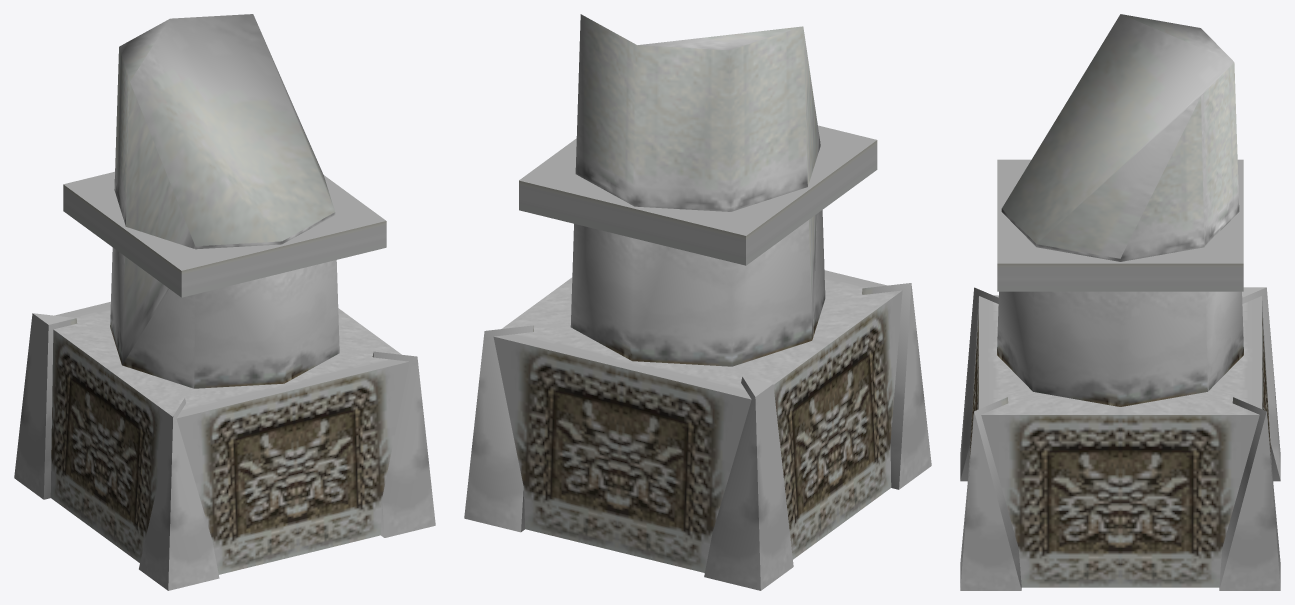
File: general_obj_bigtower06_lod_01.fbx
The picture shows the model from 3 angles, left to right: view 1: azimuth 30°, elevation 25°; view 2: azimuth 150°, elevation 25°; view 3: azimuth 270°, elevation 25°; orthographic projection. The views are drawn at different scales.
Visible parts, largest first — view 1: Sphere01; view 2: Sphere01; view 3: Sphere01.
Part boxes in pixels (x1,y1,x2,y2): Sphere01: (14, 14, 435, 590); Sphere01: (464, 14, 931, 590); Sphere01: (960, 14, 1280, 590).
Bounding box in the file's own units: 5.22 × 8.27 × 5.21.
